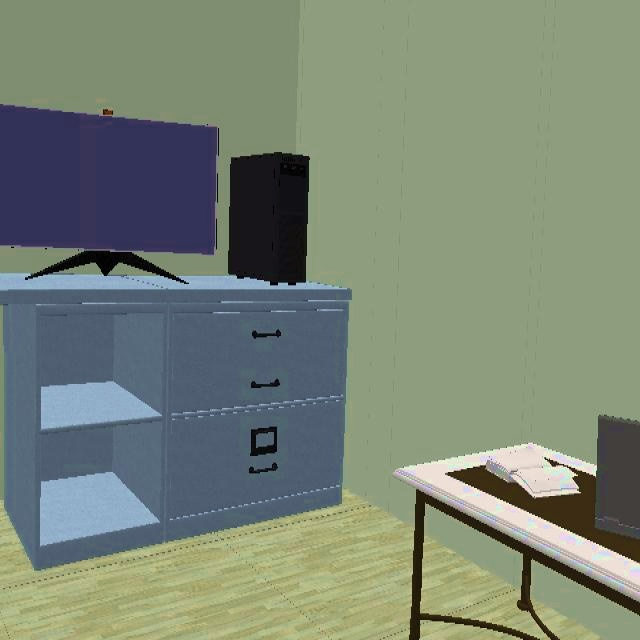book: (486, 444, 580, 499)
cabinet: (1, 285, 350, 565)
laptop: (582, 416, 640, 563)
monitor: (0, 105, 220, 256)
table: (395, 444, 640, 640)
